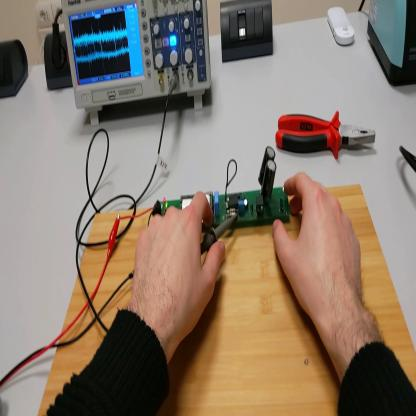hand: (273, 173, 366, 332), (133, 193, 224, 343)
high voltage board: (123, 148, 292, 244)
oscilloscope: (63, 1, 215, 126)
oscilloscope probe tip: (201, 212, 238, 253)
pliers: (277, 112, 375, 163)
socket: (43, 30, 76, 95), (1, 34, 30, 100)
welder station: (370, 1, 416, 89)
working area: (37, 183, 415, 414)
